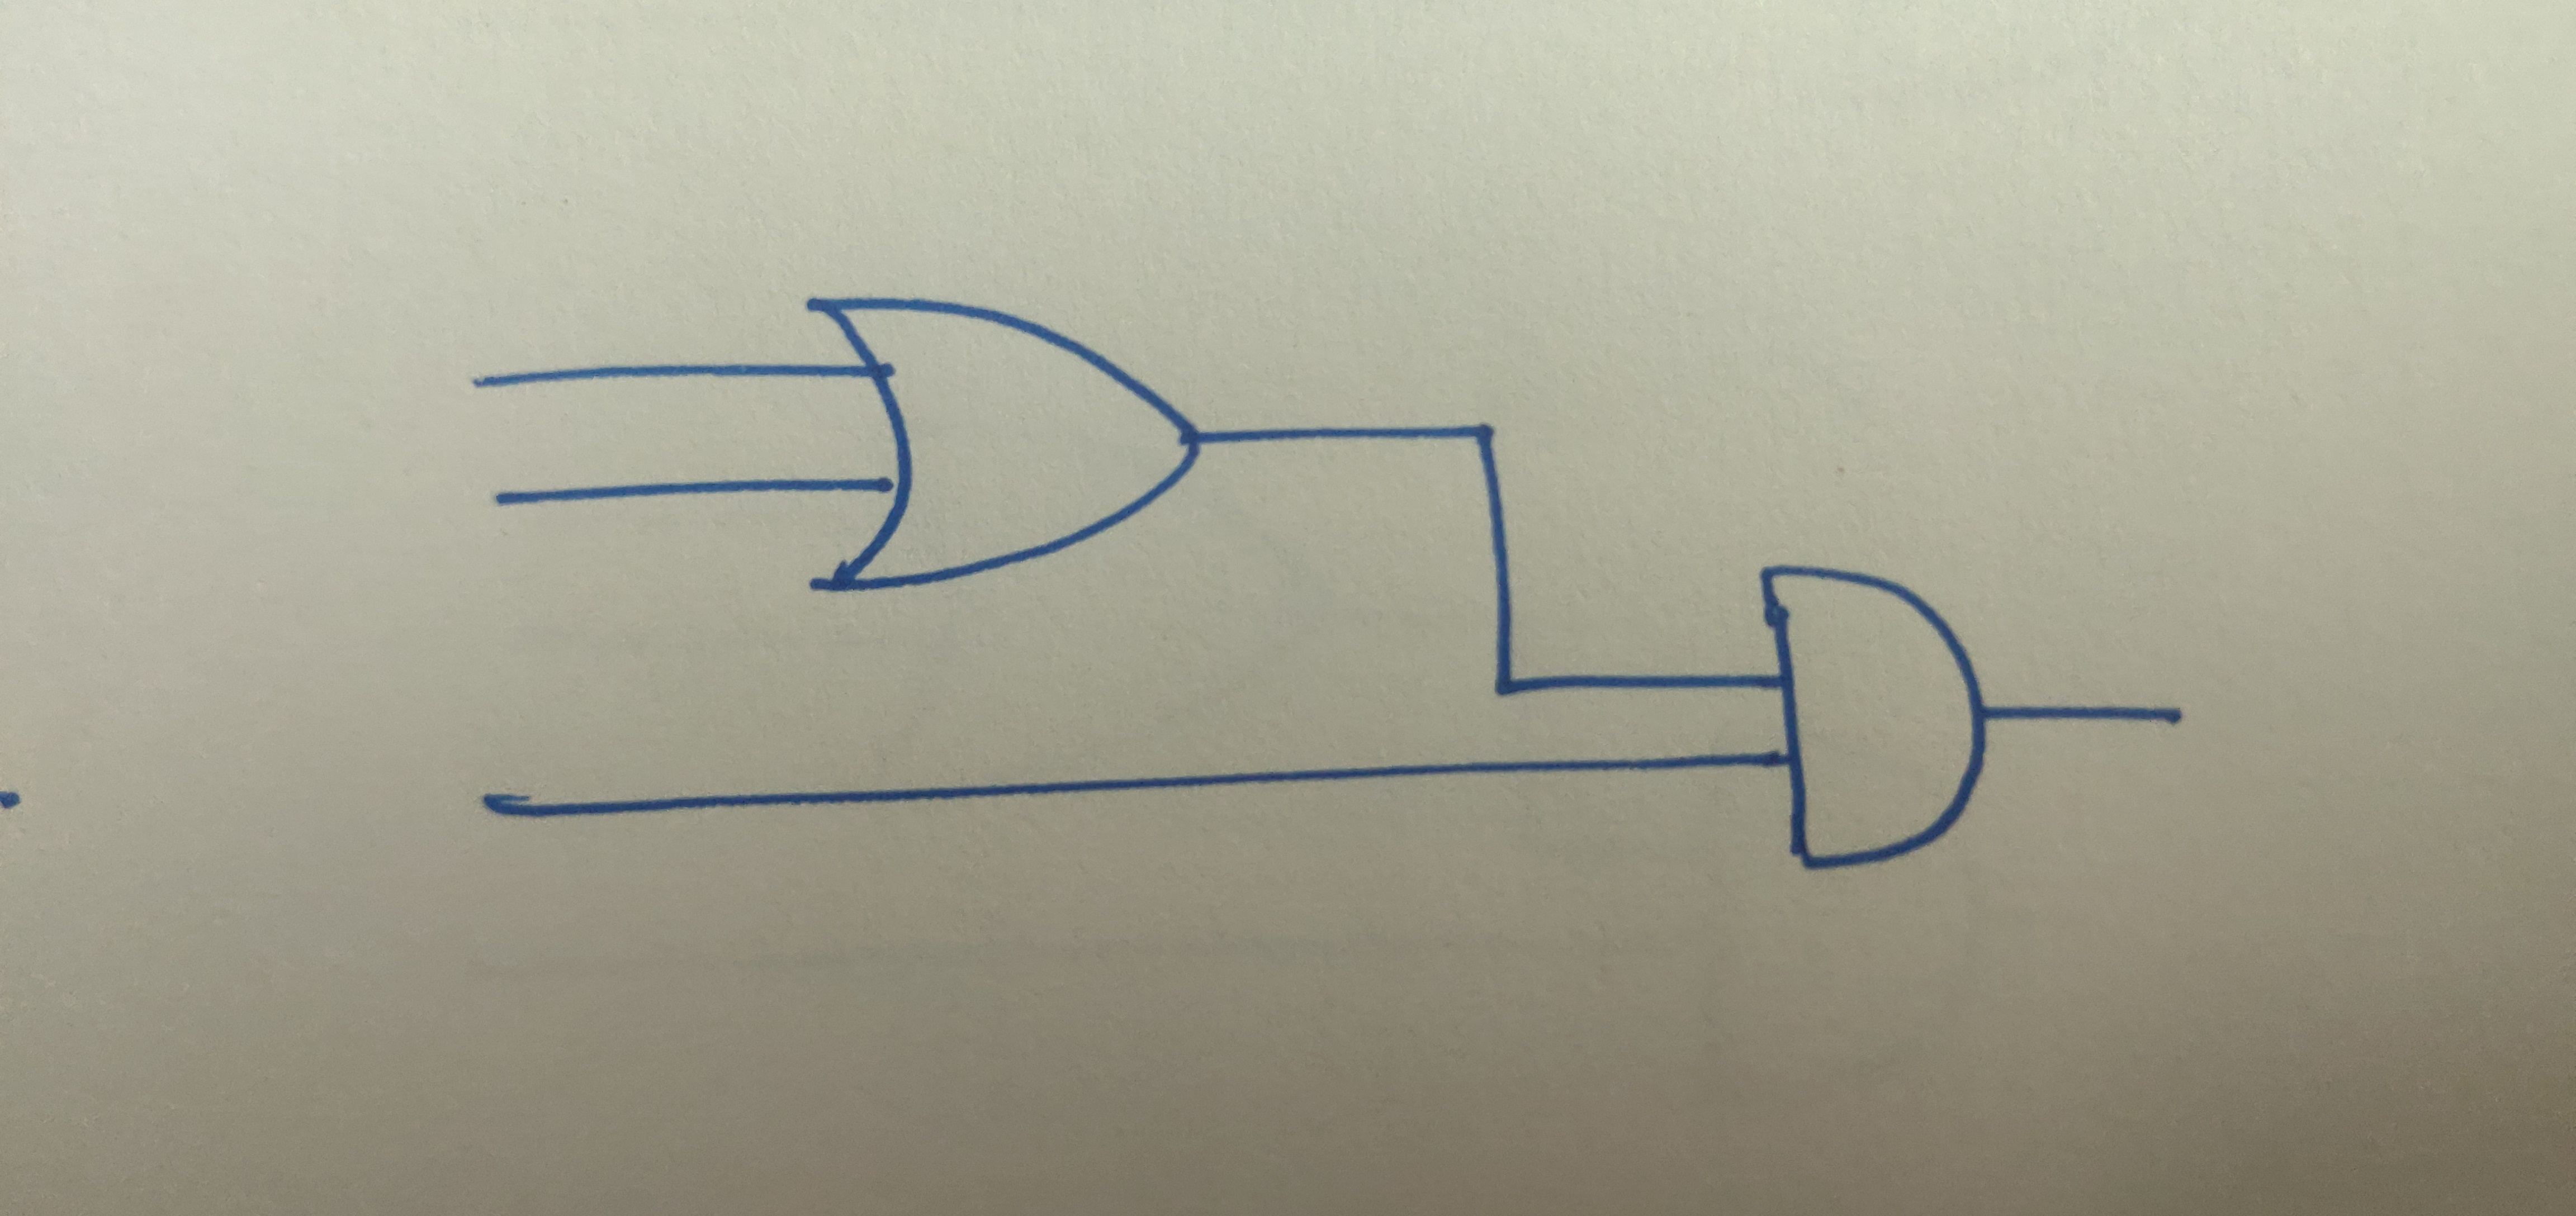and: (1755, 555, 2001, 874)
or: (795, 289, 1216, 592)
